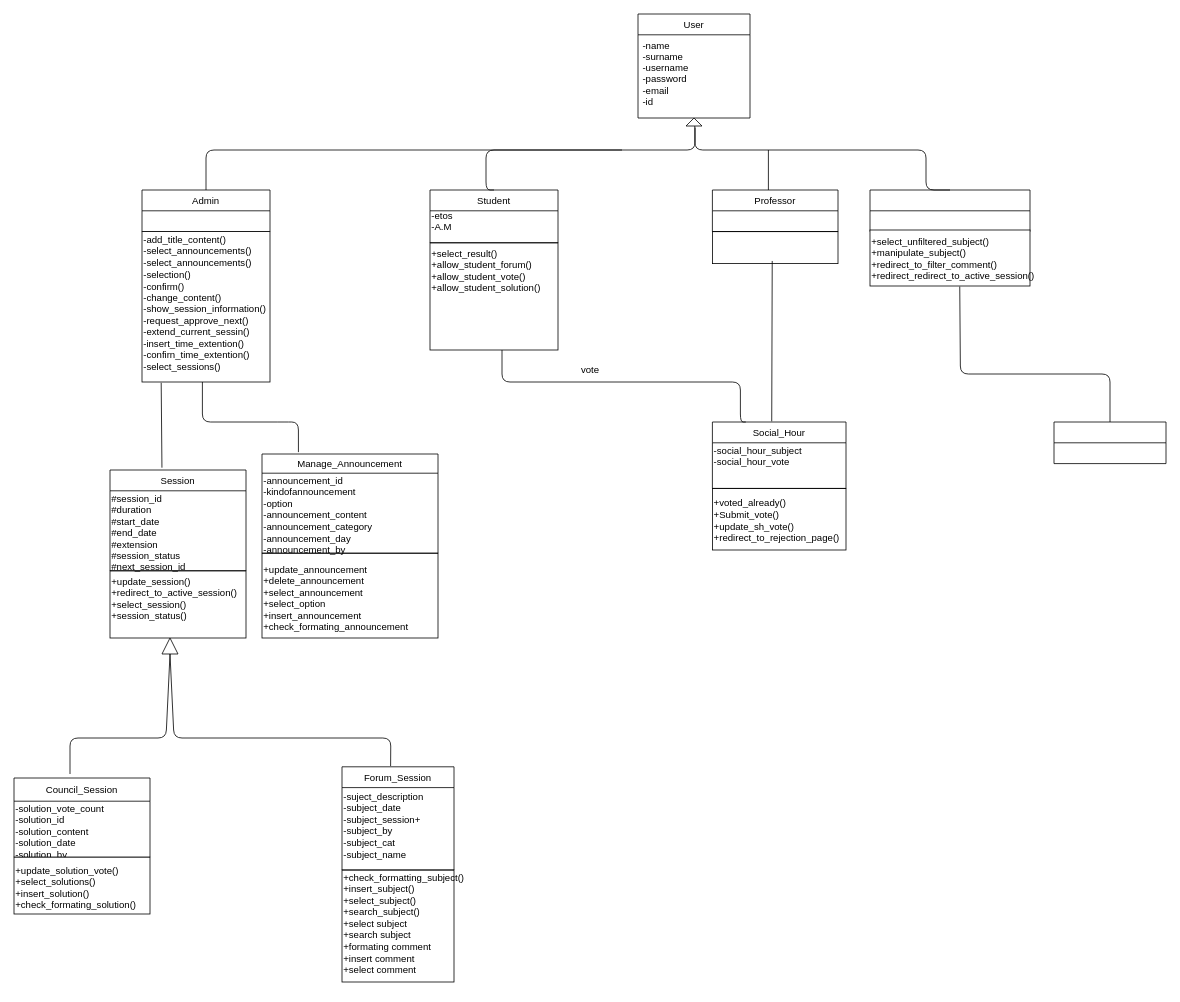
The diagram is 1180 pixels wide and 1002 high, and some of its shapes have lost their labels. Here are the shapes that lost their labels. From the top down, the centre of each, then its label:
point 949,210: Moderator
point 775,247: +post_social_hour_subject()
point 1109,442: Filter_Solution
